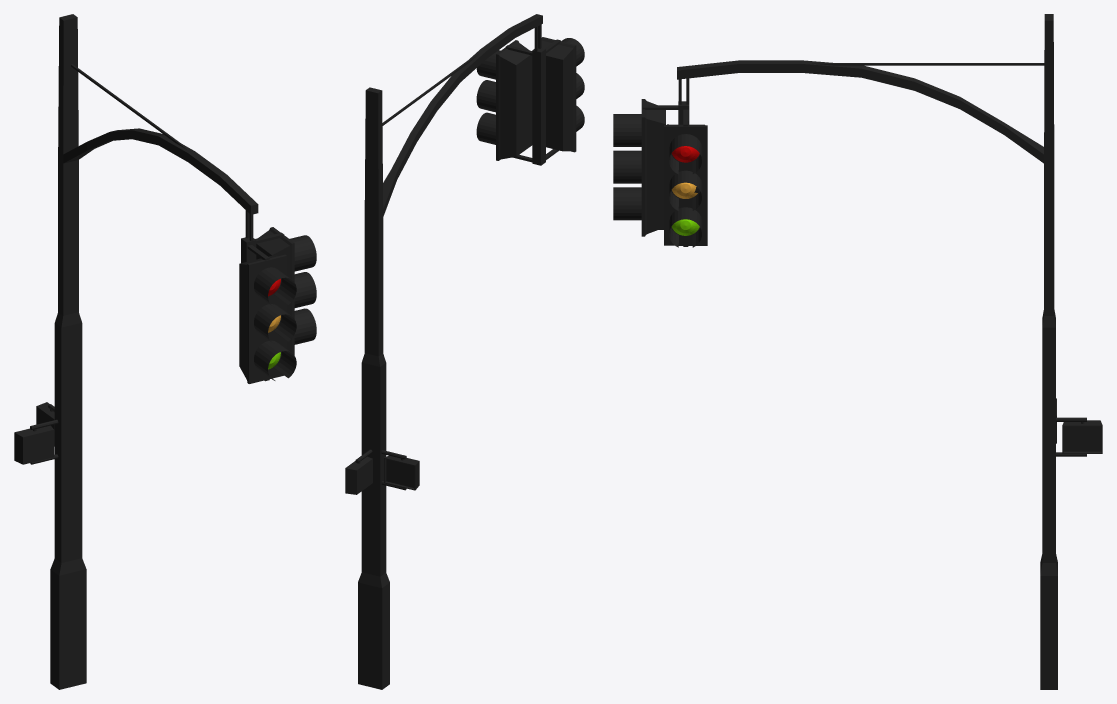
File: trafficlight2.dae
The picture shows the model from 3 angles, left to right: view 1: azimuth 30°, elevation 25°; view 2: azimuth 150°, elevation 25°; view 3: azimuth 270°, elevation 25°; orthographic projection. The views are drawn at different scales.
Visible parts, largest first — view 1: lamp_post_Cube.017, lights_shades_Cube.002, crossing_man_light_Cube.021; view 2: lamp_post_Cube.017, lights_shades_Cube.002, crossing_man_light_Cube.021, crossing_man_light_2_Cube.027; view 3: lamp_post_Cube.017, lights_shades_Cube.002, crossing_man_light_2_Cube.027.
Boxes of the visible parts, box(x1,y1,x2,y2) form: lamp_post_Cube.017: box(50, 14, 258, 689); lights_shades_Cube.002: box(239, 227, 316, 383); crossing_man_light_Cube.021: box(14, 419, 58, 464); lamp_post_Cube.017: box(358, 14, 542, 689); lights_shades_Cube.002: box(476, 37, 584, 165); crossing_man_light_Cube.021: box(381, 450, 419, 490); crossing_man_light_2_Cube.027: box(345, 449, 372, 494); lamp_post_Cube.017: box(677, 14, 1057, 689); lights_shades_Cube.002: box(613, 99, 707, 247); crossing_man_light_2_Cube.027: box(1056, 417, 1102, 456).
Bounding box in the file's own units: 2.73 × 10.63 × 15.95.
